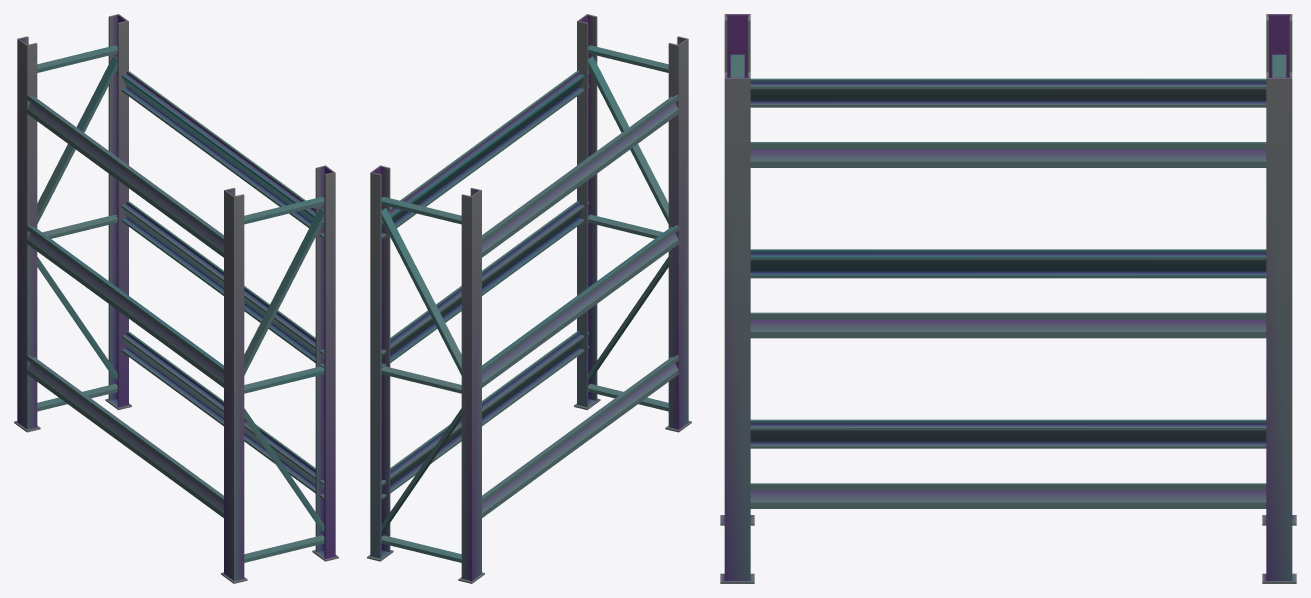
Rendered from simready-storage_tire_rack_d01.glb.
The picture shows the model from 3 angles, left to right: view 1: azimuth 30°, elevation 25°; view 2: azimuth 150°, elevation 25°; view 3: azimuth 270°, elevation 25°; orthographic projection. The views are drawn at different scales.
Visible parts, largest first — view 1: folded_upright, folded_upright.001, folded_rail.002, folded_rail.003, folded_rail.004, folded_rail.005, folded_rail.001, folded_rail; view 2: folded_upright.001, folded_upright, folded_rail.002, folded_rail.003, folded_rail.004, folded_rail.005, folded_rail.001, folded_rail; view 3: folded_upright, folded_upright.001, folded_rail.003, folded_rail.004, folded_rail.005, folded_rail.001, folded_rail, folded_rail.002.
Boxes of the visible parts, box(x1,y1,x2,y2) form: folded_upright: box(221, 165, 338, 583); folded_upright.001: box(14, 14, 131, 432); folded_rail.002: box(116, 70, 324, 238); folded_rail.003: box(27, 355, 223, 517); folded_rail.004: box(27, 225, 223, 387); folded_rail.005: box(27, 95, 223, 257); folded_rail.001: box(116, 201, 324, 368); folded_rail: box(116, 331, 324, 499); folded_upright.001: box(367, 165, 484, 583); folded_upright: box(574, 14, 691, 432); folded_rail.002: box(381, 70, 589, 238); folded_rail.003: box(482, 355, 678, 517); folded_rail.004: box(482, 225, 678, 387); folded_rail.005: box(482, 95, 678, 257); folded_rail.001: box(381, 201, 589, 368); folded_rail: box(381, 331, 589, 499); folded_upright: box(720, 14, 754, 583); folded_upright.001: box(1262, 14, 1296, 583); folded_rail.003: box(750, 419, 1266, 448); folded_rail.004: box(750, 249, 1266, 278); folded_rail.005: box(750, 78, 1266, 107); folded_rail.001: box(750, 312, 1266, 338); folded_rail: box(750, 483, 1266, 508); folded_rail.002: box(750, 142, 1266, 167).
Bounding box in the file's own units: 0.62 × 2.17 × 2.25.
